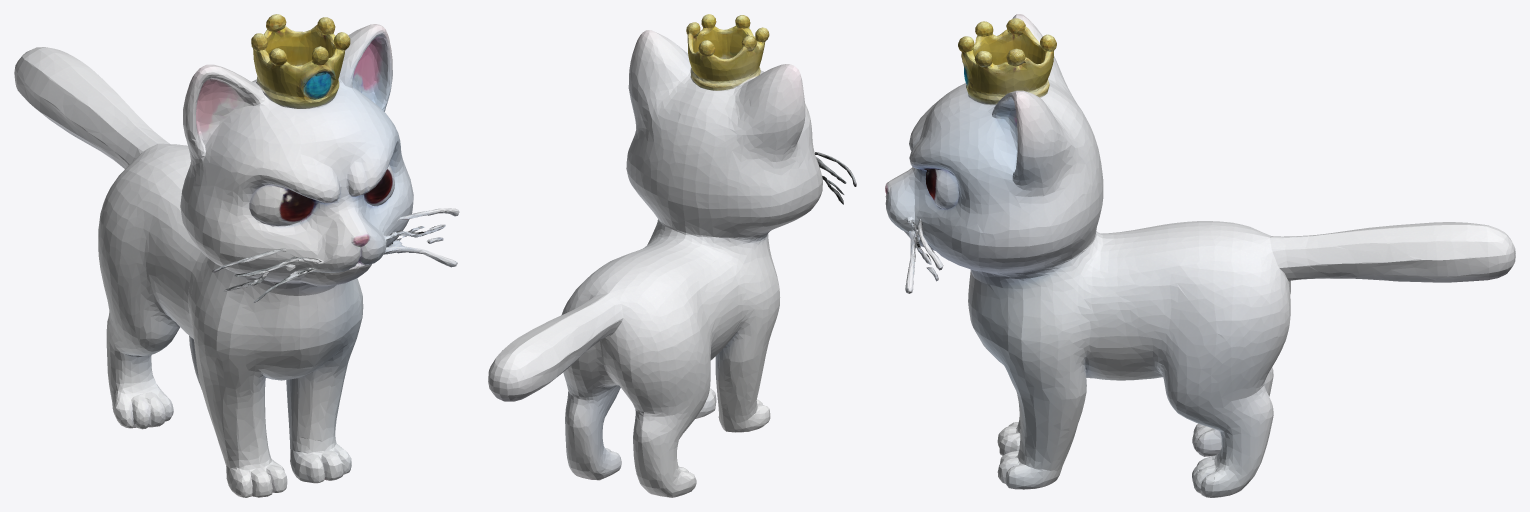
File: ophelia_trellis.glb
3 renders of one model, left to right at view 1: azimuth 30°, elevation 25°; view 2: azimuth 150°, elevation 25°; view 3: azimuth 270°, elevation 25°, orthographic. The views are drawn at different scales.
Parts seen in each view (by area): view 1: world; view 2: world; view 3: world.
Part boxes in pixels (x1=…): world: x1=14, y1=14, x2=459, y2=497; world: x1=488, y1=14, x2=856, y2=497; world: x1=885, y1=14, x2=1515, y2=497.
Bounding box in the file's own units: 0.426 × 0.7636 × 0.9992.
Materials: 1 (1 with a texture image).
